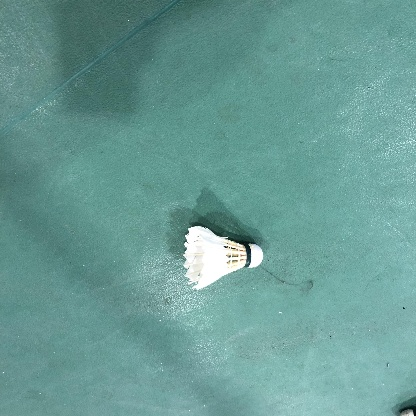ball_single: (183, 226, 263, 290)
